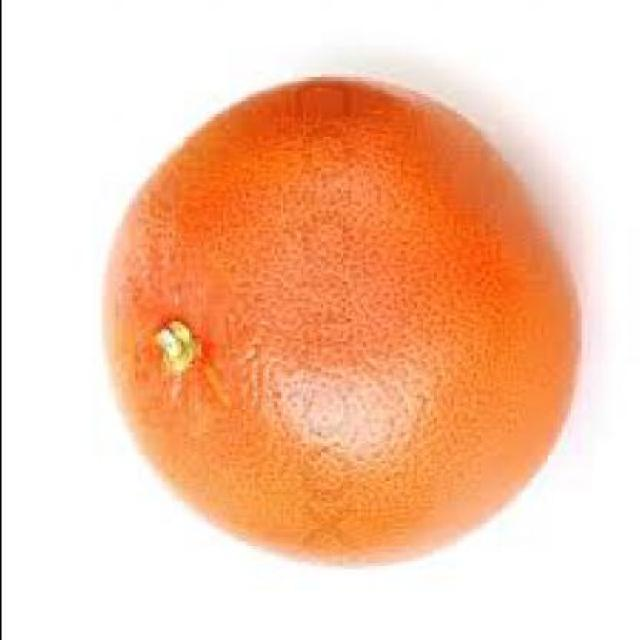BIODEGRADABLE: (105, 78, 580, 568)
